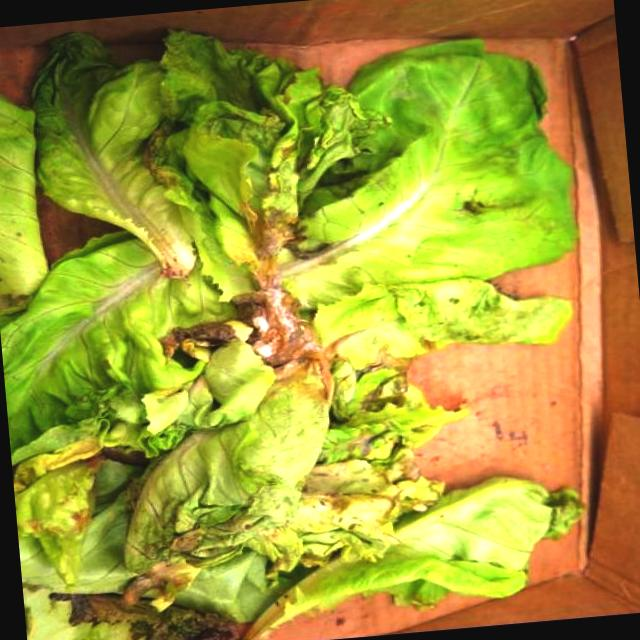Wilt_and_leaf_blight_on_lettuce: (29, 106, 410, 577)
